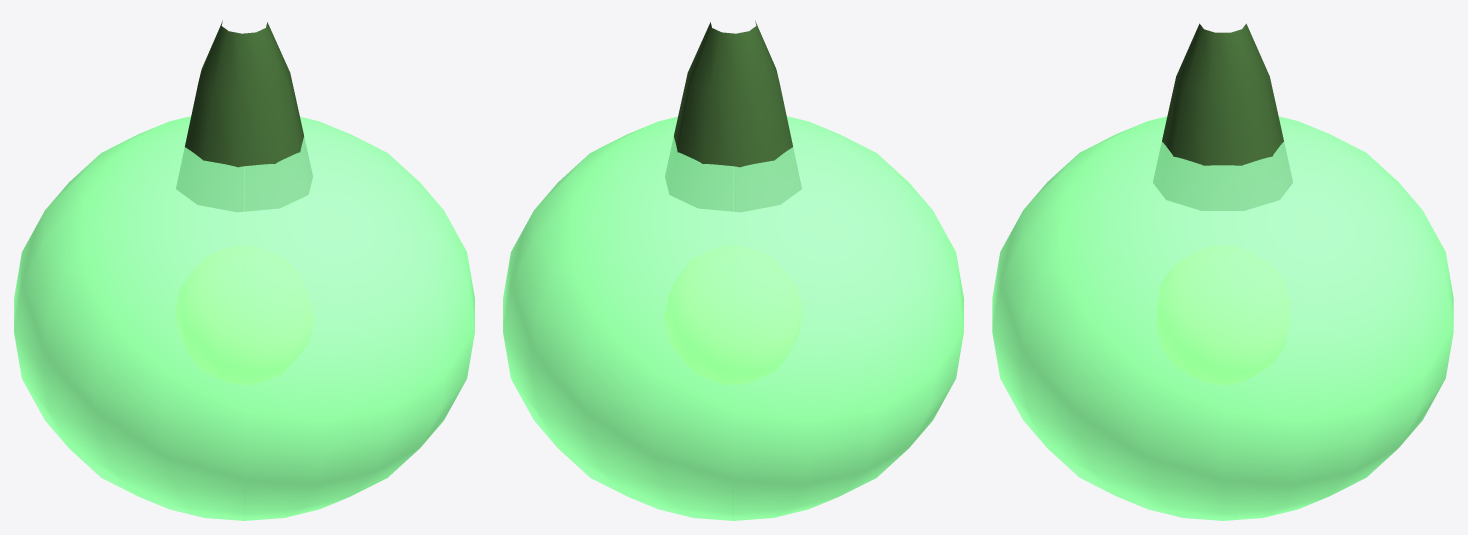
The model's file is venom_sac.glb.
The picture shows the model from 3 angles, left to right: view 1: azimuth 30°, elevation 25°; view 2: azimuth 150°, elevation 25°; view 3: azimuth 270°, elevation 25°; orthographic projection.
Parts seen in each view (by area): view 1: venom_sac; view 2: venom_sac; view 3: venom_sac.
Boxes of the visible parts, x1,y1,x2,y2 form: venom_sac: (14, 20, 474, 520); venom_sac: (503, 20, 963, 520); venom_sac: (992, 23, 1453, 520).
Bounding box in the file's own units: 0.08 × 0.089 × 0.0788.
